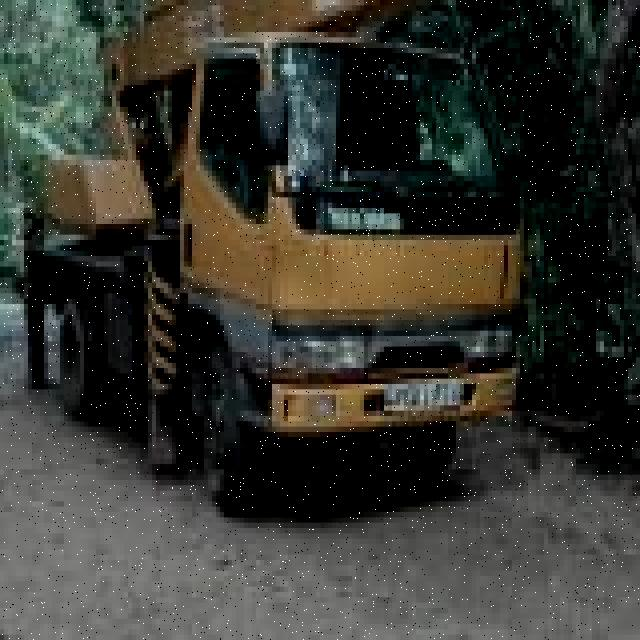truck: (40, 0, 540, 512)
